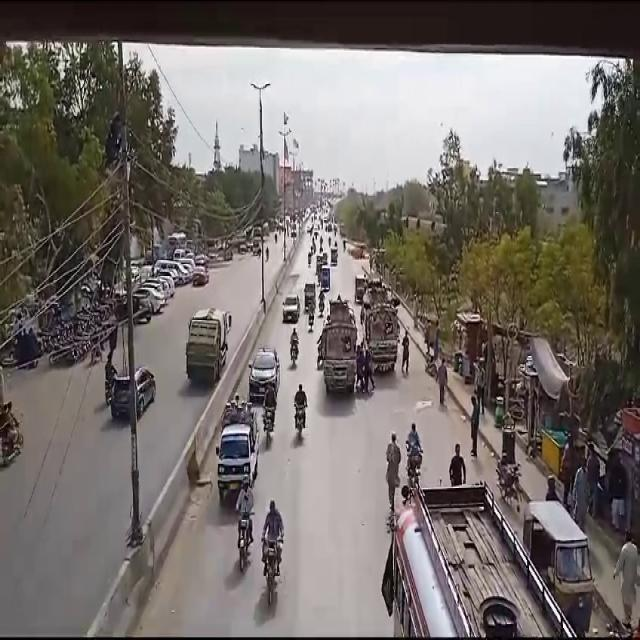car: (110, 362, 158, 425)
motorbike: (260, 495, 284, 607), (234, 471, 257, 573), (292, 379, 309, 443), (262, 379, 278, 447), (290, 324, 300, 370)
truck: (183, 303, 233, 391)
